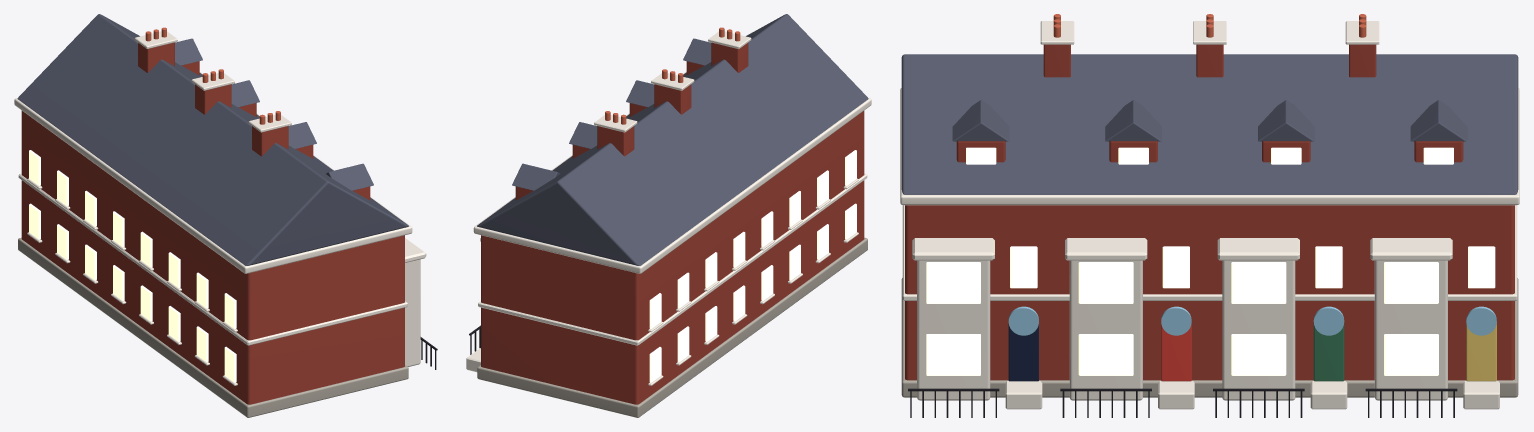
The model's file is townhouse_row.glb.
3 renders of one model, left to right at view 1: azimuth 30°, elevation 25°; view 2: azimuth 150°, elevation 25°; view 3: azimuth 270°, elevation 25°, orthographic. The views are drawn at different scales.
Visible parts, largest first — view 1: townhouse_row; view 2: townhouse_row; view 3: townhouse_row.
Boxes of the visible parts, bbox=[...] form: townhouse_row: bbox=[14, 14, 437, 417]; townhouse_row: bbox=[466, 14, 871, 417]; townhouse_row: bbox=[900, 14, 1519, 417].
Size of the model in its own units: 9.89 by 11.75 by 20.3.
1 material, 1 textured.
